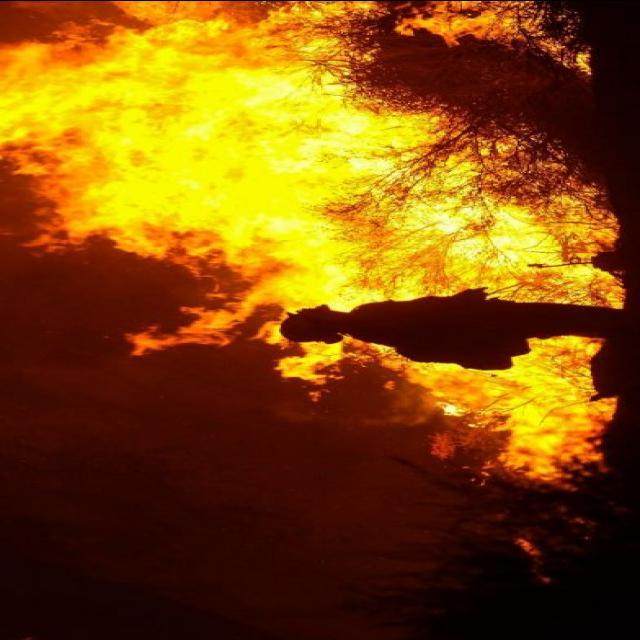Fire: (6, 9, 632, 498)
